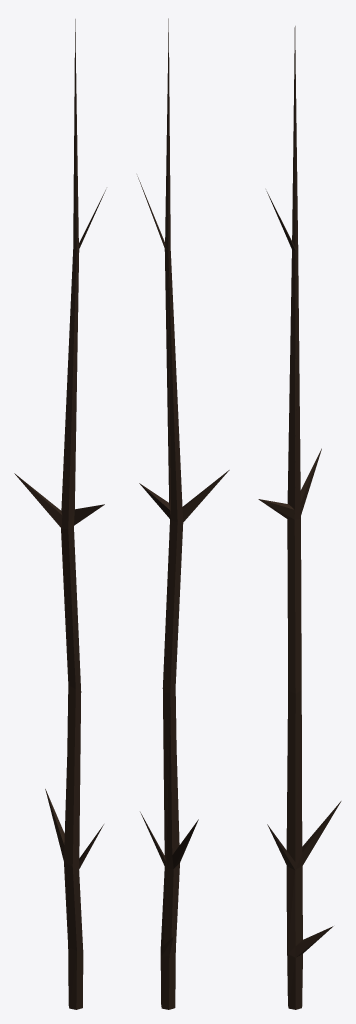
Rendered from tree_2.FBX.
3 renders of one model, left to right at view 1: azimuth 30°, elevation 25°; view 2: azimuth 210°, elevation 25°; view 3: azimuth 270°, elevation 25°, orthographic.
Visible parts, largest first — view 1: tree_2; view 2: tree_2; view 3: tree_2.
Boxes of the visible parts, left/top/right/bottom form: tree_2: left=14, top=19, right=105, bottom=1009; tree_2: left=137, top=18, right=229, bottom=1009; tree_2: left=258, top=26, right=341, bottom=1009.
Size of the model in its own units: 80.05 by 1170 by 89.01.
